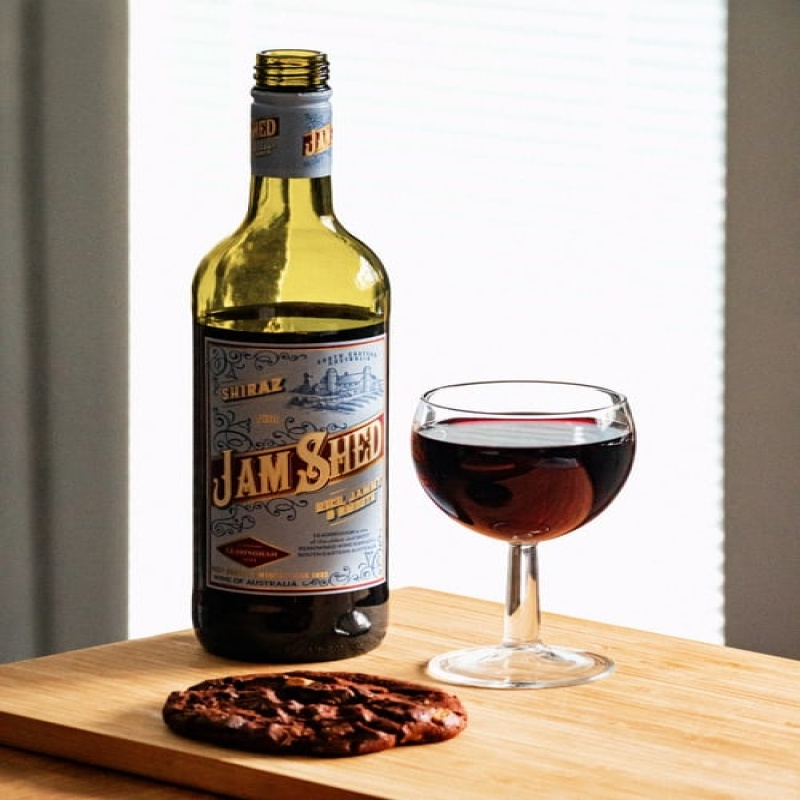wine: (197, 52, 406, 664)
